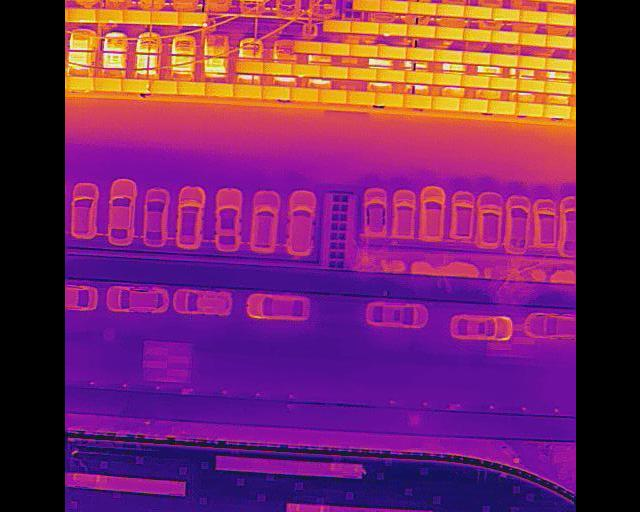Cell: (178, 13, 206, 27), (95, 10, 122, 23)
Cell-Multi: (121, 80, 150, 93)
No-Anomaly: (289, 88, 318, 102), (517, 33, 546, 47), (406, 24, 434, 38), (545, 35, 573, 49), (545, 12, 573, 26), (321, 42, 349, 56), (317, 90, 345, 104), (177, 82, 205, 96), (516, 56, 546, 69), (490, 31, 517, 45), (459, 99, 488, 112), (407, 3, 436, 16), (403, 96, 432, 109), (349, 44, 378, 57), (347, 68, 376, 81), (346, 92, 375, 105), (232, 85, 261, 98), (488, 77, 517, 90), (461, 52, 489, 65), (436, 4, 464, 17), (435, 27, 463, 40), (379, 0, 407, 13), (542, 106, 570, 119), (350, 21, 378, 34), (293, 42, 321, 55), (205, 84, 233, 97), (149, 12, 177, 25), (518, 11, 546, 24), (122, 11, 150, 24), (93, 79, 121, 92), (491, 8, 519, 21), (489, 54, 517, 67), (463, 6, 491, 19), (462, 29, 489, 42), (377, 46, 404, 59), (323, 20, 350, 33), (517, 79, 544, 92), (67, 77, 94, 90), (403, 72, 432, 84), (374, 94, 403, 106), (545, 58, 571, 71), (544, 82, 570, 95), (433, 50, 461, 62), (431, 98, 459, 110), (405, 49, 433, 61), (378, 24, 406, 36), (261, 88, 289, 100), (149, 82, 177, 94), (487, 102, 515, 114), (461, 76, 488, 88), (376, 70, 403, 82), (235, 62, 262, 74), (515, 104, 542, 116), (432, 75, 461, 86), (319, 67, 348, 78), (262, 64, 291, 75), (292, 65, 318, 77), (351, 0, 379, 11), (547, 0, 573, 4)
Unclassified: (67, 9, 95, 23)
